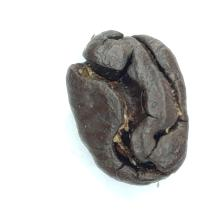NG: (70, 47, 180, 166)
